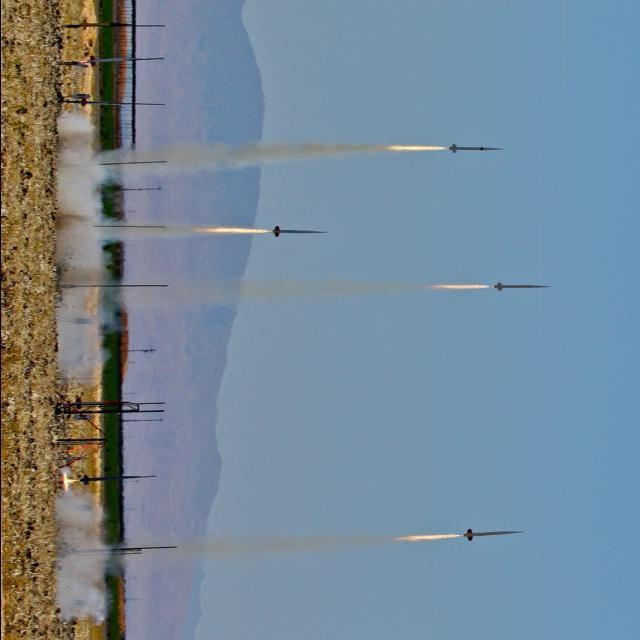missile: (462, 518, 522, 552), (447, 140, 506, 162), (495, 278, 550, 301), (268, 222, 327, 242)
